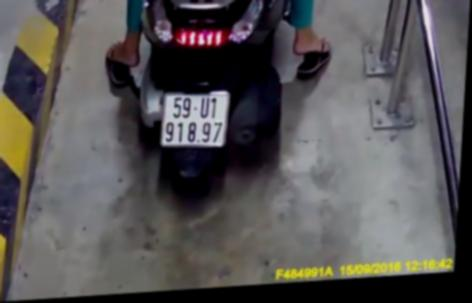License_Plate: (152, 84, 235, 156)
